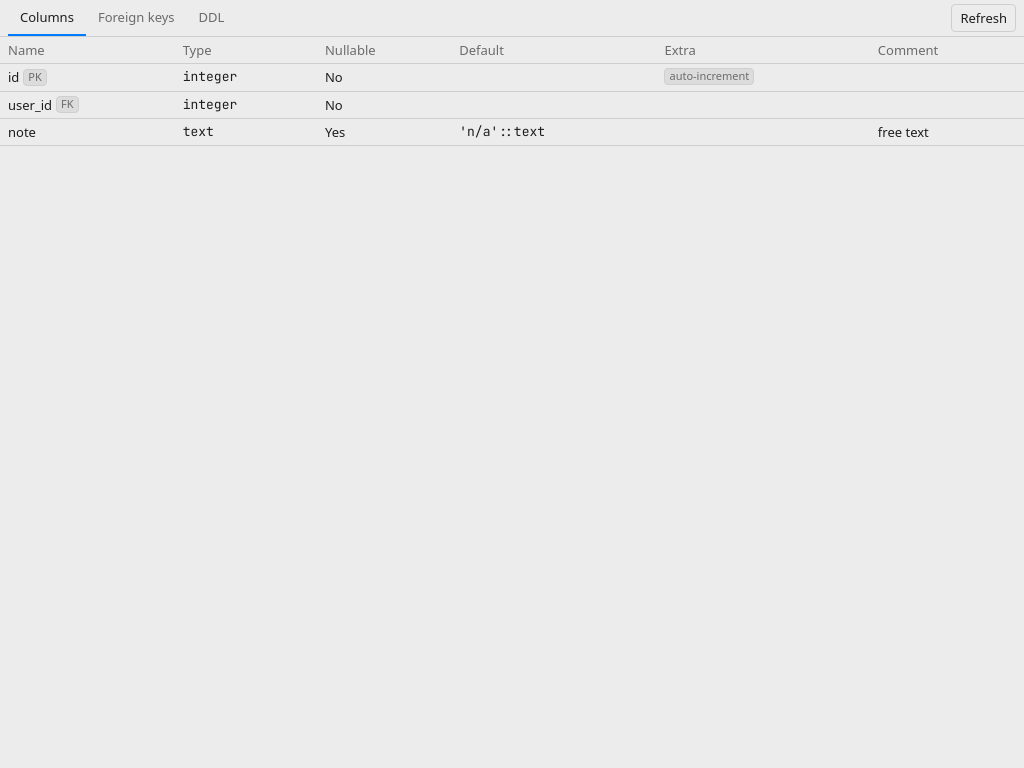
a rejected clipboard write shows the copy failure
Click the tab "DDL": (212, 18) [187,0,236,36]
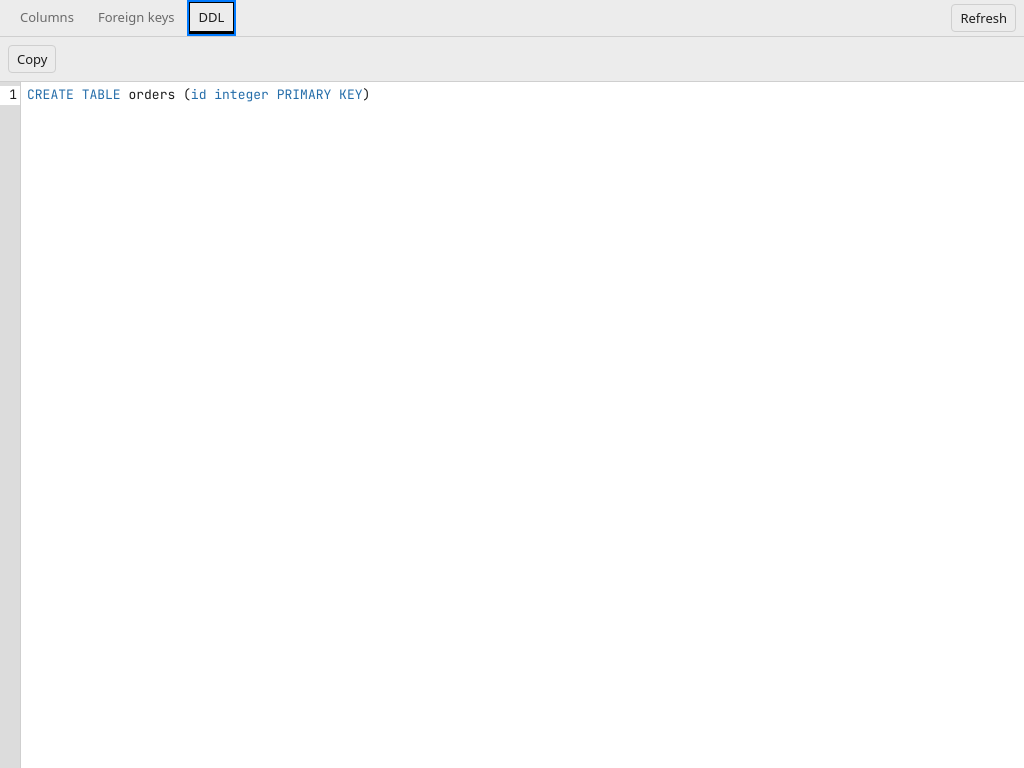
expect the element named "Table DDL" shows "CREATE TABLE orders (id integer PRIMARY KEY)": met
Click the button "Copy": (32, 59) [8,45,56,73]
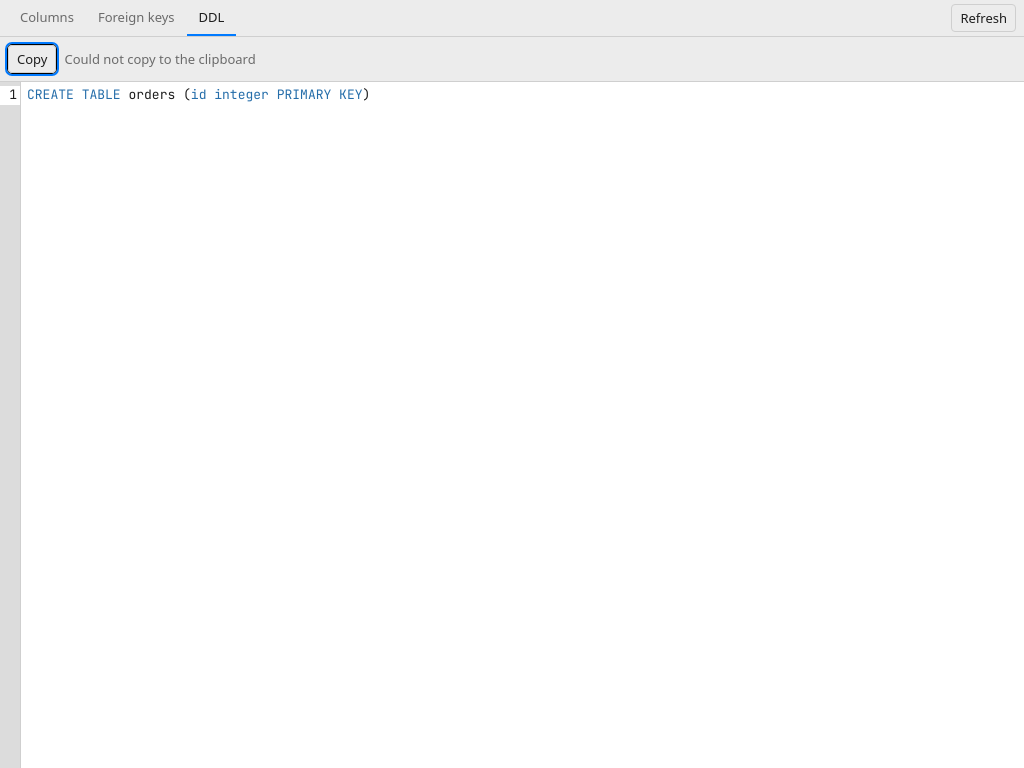
expect the text "Could not copy to the clipboard" is shown: met, box [64,50,256,68]
